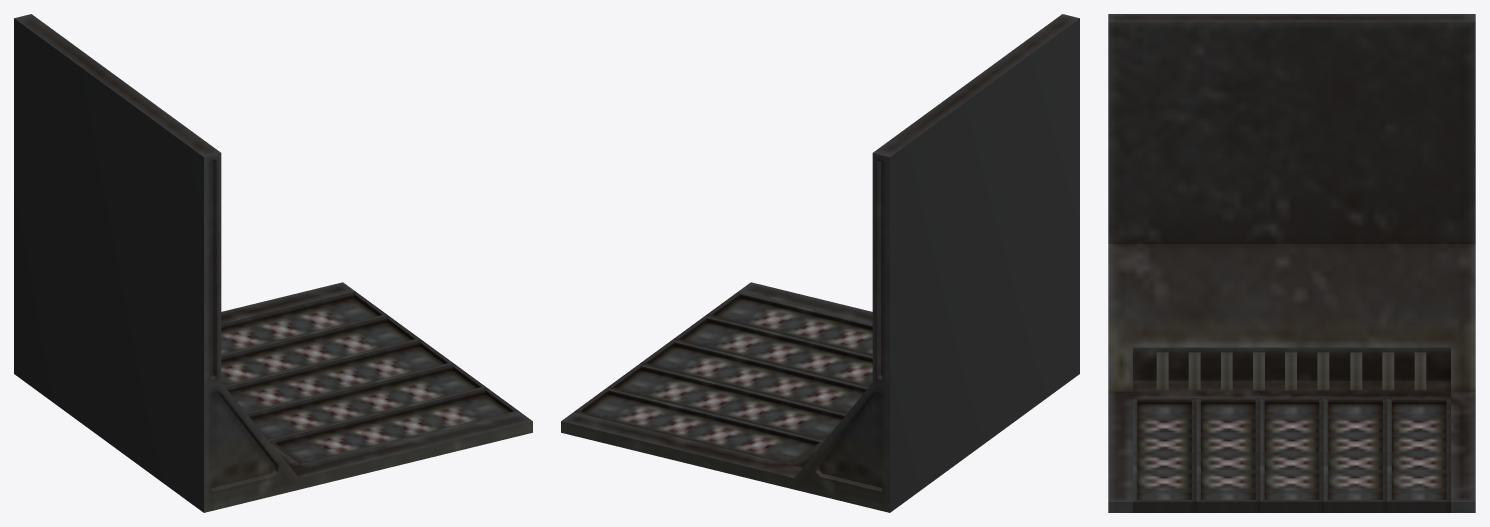
File: Wall-Floor_19.FBX
3 views of the same model, side by side, from view 1: azimuth 30°, elevation 25°; view 2: azimuth 150°, elevation 25°; view 3: azimuth 270°, elevation 25° (orthographic). The views are drawn at different scales.
Visible parts, largest first — view 1: Wall-Floor_19; view 2: Wall-Floor_19; view 3: Wall-Floor_19.
Part boxes in pixels (left/top/right/bottom): Wall-Floor_19: left=14, top=14, right=532, bottom=512; Wall-Floor_19: left=561, top=14, right=1079, bottom=512; Wall-Floor_19: left=1108, top=14, right=1475, bottom=512.
Bounding box in the file's own units: 300 × 310 × 300.
